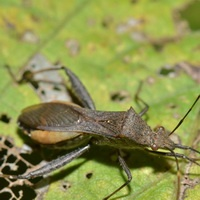insect: (18, 67, 199, 169)
